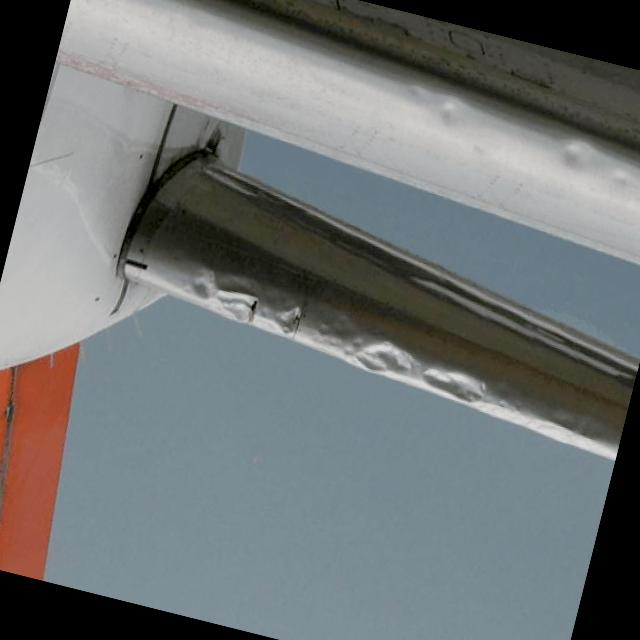dent: (339, 339, 422, 380), (420, 360, 490, 407), (546, 130, 602, 178), (484, 388, 543, 432), (313, 315, 364, 353), (432, 91, 470, 136), (549, 412, 605, 440), (397, 75, 439, 107), (214, 290, 258, 320), (605, 168, 640, 199), (269, 306, 302, 335), (191, 270, 216, 301), (472, 143, 487, 156)
